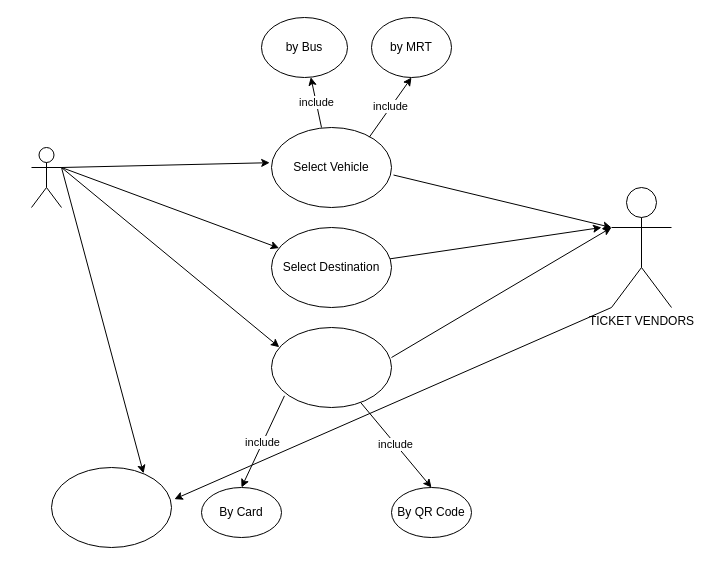
This 711x565 diagram has some shape labels left out. The shapes that lost their labels are listed below. From the top down, each one's centre as x and y in pixels, then its label:
(x=46, y=177): Customers
(x=331, y=367): Select Payments
(x=111, y=507): Validate
